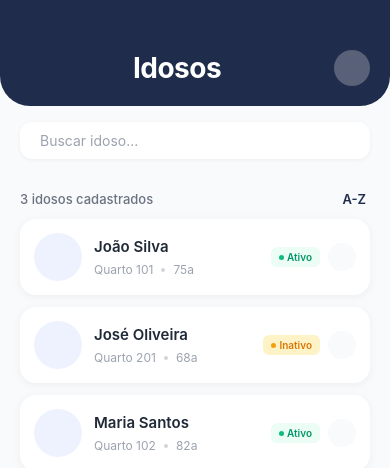
Test case: ElderlyListScreen - Dashboard Tests › Busca de residentes › deve buscar residente por nome parcial
The image size is (390, 468).
Check: the text "João Silva" is shown, box [94,237,168,256]
In the field with placeholder "Buscar idoso...": (199, 140) [40,132,358,149], type "João"
Wait 350 ms
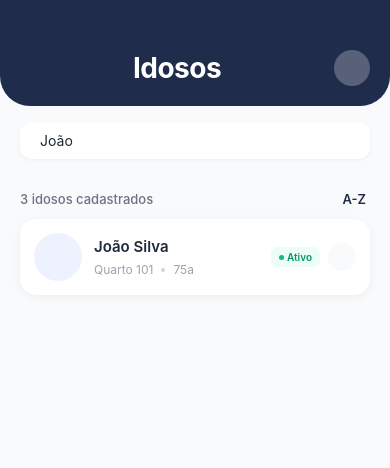
Check: the text "João Silva" is shown, box [94,237,168,256]
Check: the text "Maria Santos" is gone
